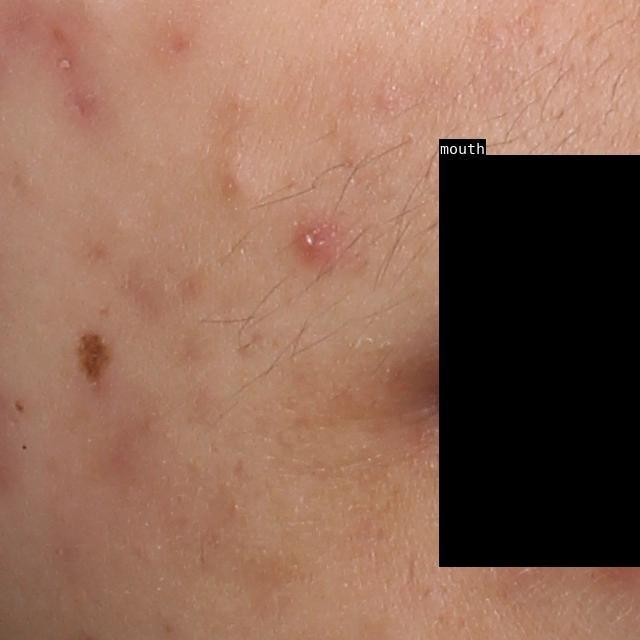comedo: (211, 159, 264, 205), (11, 398, 29, 415), (18, 441, 31, 453)
nevus: (73, 329, 115, 391)
papule: (295, 218, 340, 263)
